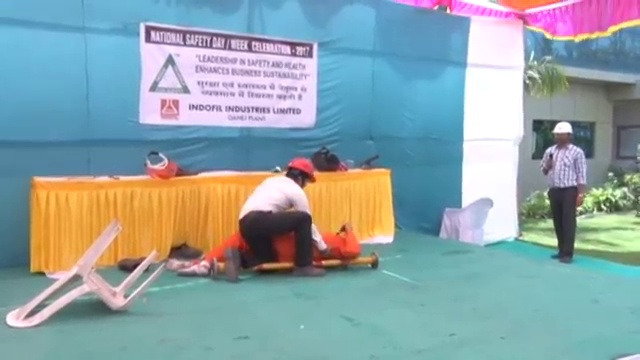helmet: (286, 157, 317, 184), (551, 121, 575, 135)
helmet_on: (282, 157, 317, 191), (549, 121, 576, 149)
person: (224, 158, 327, 282), (169, 224, 361, 277), (541, 121, 588, 266)
